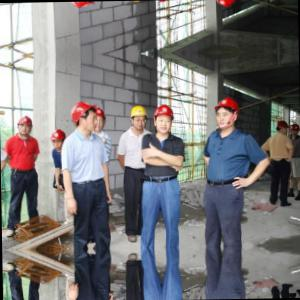helmet: (73, 99, 104, 133), (214, 96, 242, 130), (153, 104, 176, 133), (87, 104, 107, 130), (130, 104, 149, 129), (19, 113, 35, 135), (52, 128, 67, 150), (276, 119, 290, 139), (71, 2, 102, 10), (211, 1, 240, 9), (290, 121, 299, 134)
